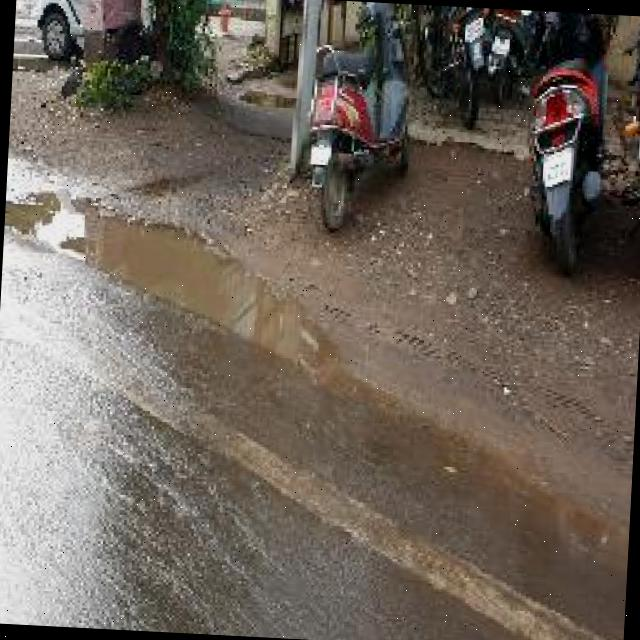waterlogging: (5, 170, 317, 342)
